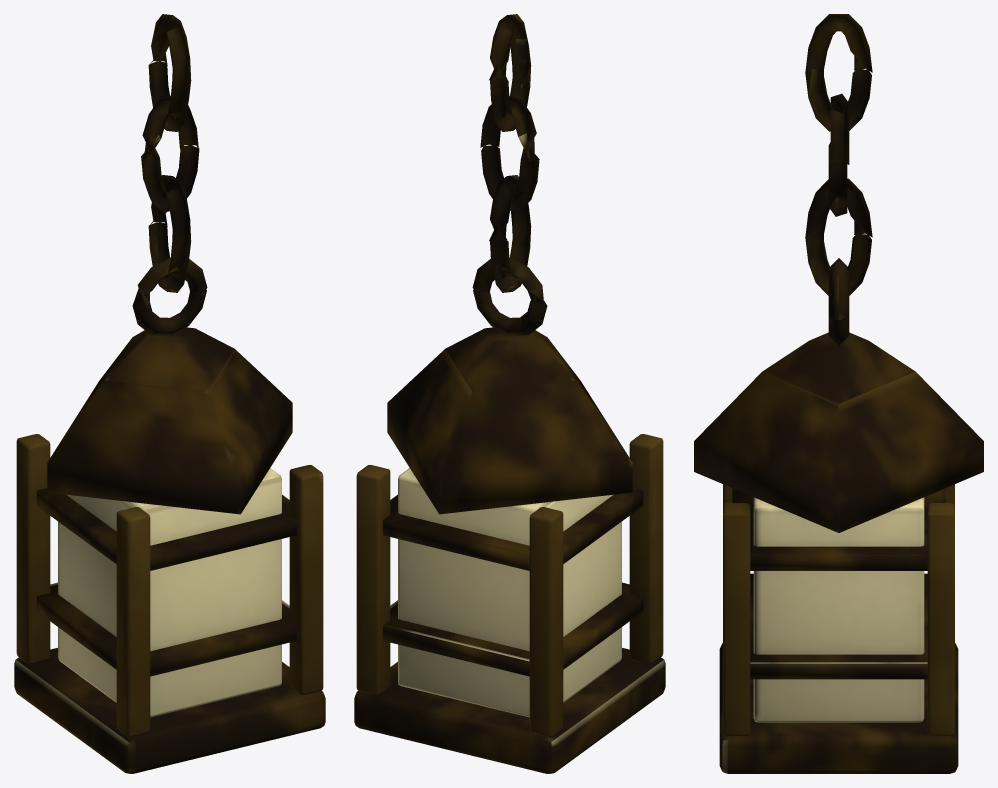
Rendered from eclipse_lantern.obj.
3 views of the same model, side by side, from view 1: azimuth 30°, elevation 25°; view 2: azimuth 150°, elevation 25°; view 3: azimuth 270°, elevation 25° (orthographic). The views are drawn at different scales.
Parts seen in each view (by area): view 1: part0, fire, part2; view 2: part0, fire, part2; view 3: part0, fire, part2.
Part boxes in pixels (x1,y1,x2,y2): part0: (14, 14, 325, 773); fire: (58, 468, 281, 717); part2: (16, 434, 323, 737); part0: (354, 14, 665, 773); fire: (398, 468, 621, 717); part2: (356, 434, 663, 737); part0: (694, 14, 983, 773); fire: (753, 497, 924, 722); part2: (723, 484, 954, 735).
Size of the model in its own units: 0.34 by 0.9211 by 0.34.
